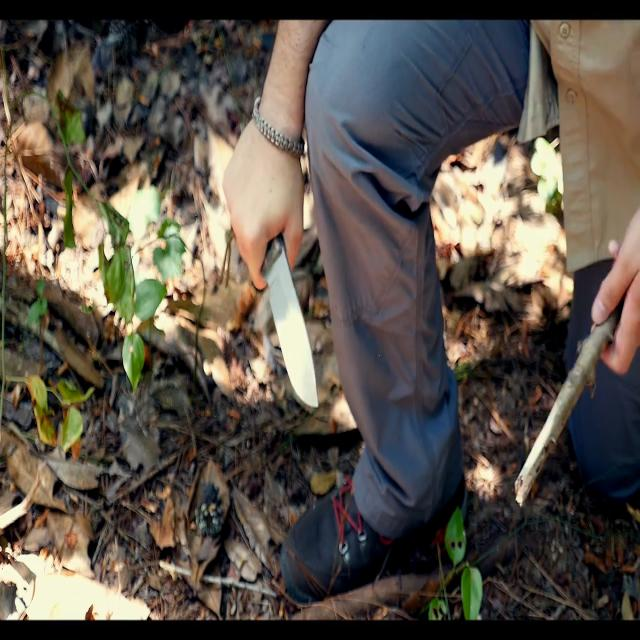knife: (266, 247, 326, 418)
